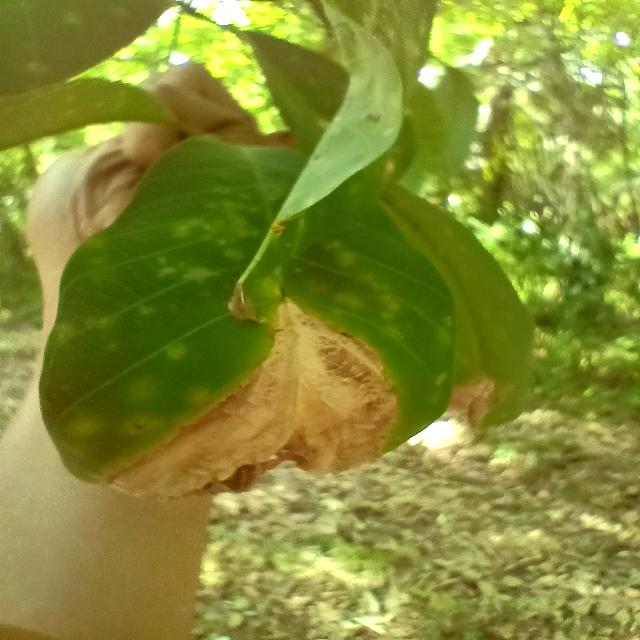Leaf-Blight: (107, 296, 398, 498), (444, 377, 496, 432), (227, 282, 259, 322)
